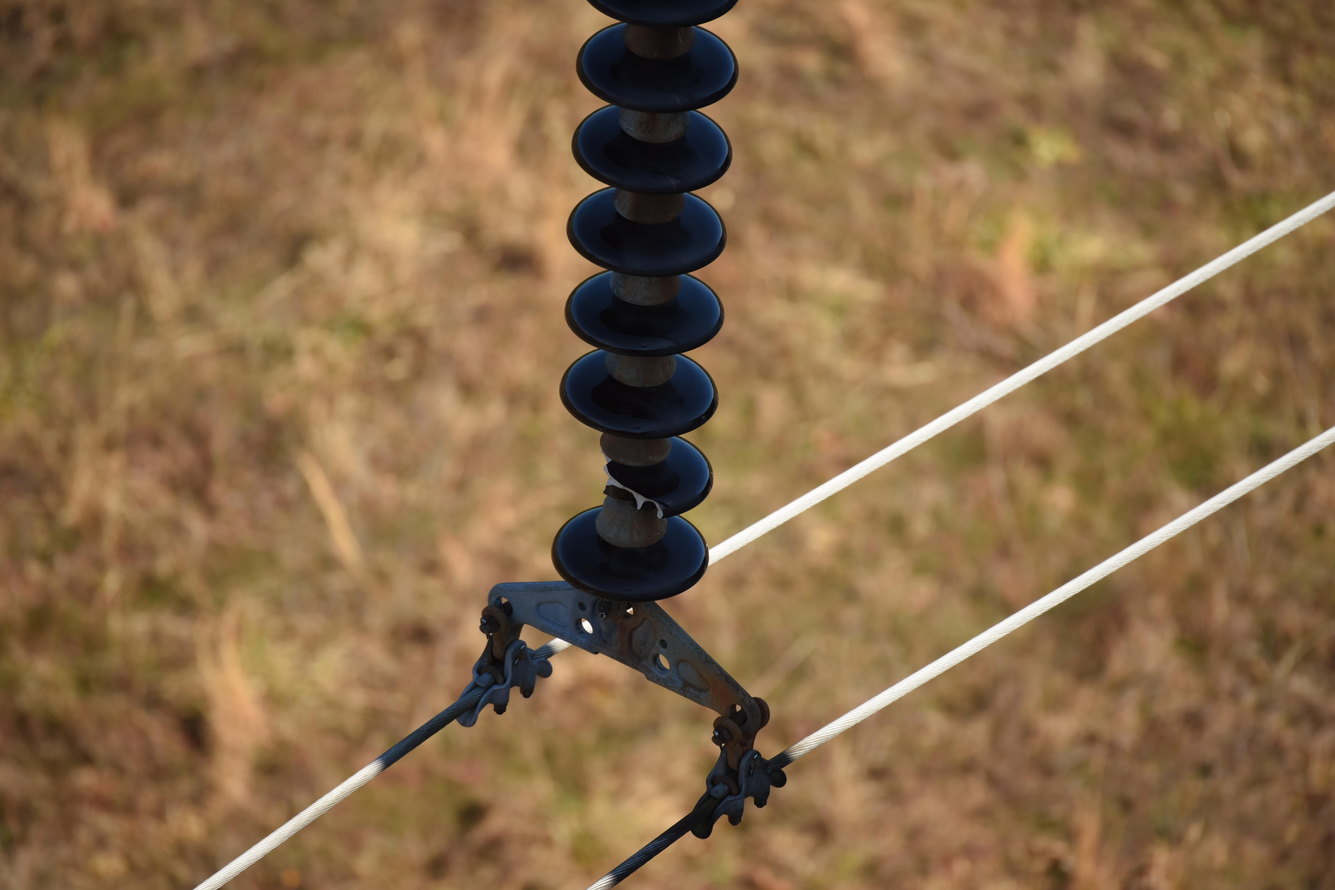damaged: (586, 435, 681, 523)
insulator: (549, 0, 740, 600)
